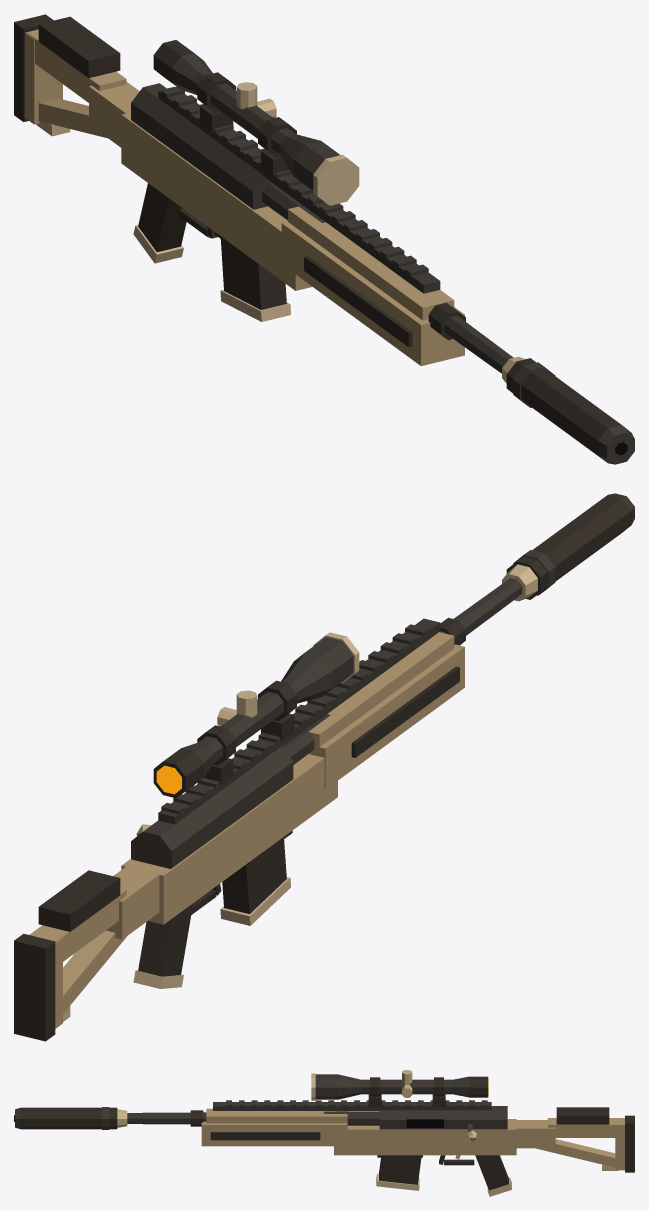
Rendered from lowpoly_sniper_rifle.glb.
3 views of the same model, one above another, from view 1: azimuth 30°, elevation 25°; view 2: azimuth 150°, elevation 25°; view 3: azimuth 270°, elevation 25° (orthographic). The views are drawn at different scales.
Visible parts, largest first — view 1: Chassis_Lower, Handguard_Main, Receiver_Upper, Suppressor_Body, Handguard_TopShroud, Picatinny_Base, Stock_CheekRest, Mag_Body, Barrel_Fluted, Pistol_Grip, Handguard_Rail_L, Stock_Bridge (+16 smaller); view 2: Chassis_Lower, Receiver_Upper, Handguard_Main, Suppressor_Body, Stock_Buttpad, Handguard_TopShroud, Picatinny_Base, Stock_CheekRest, Mag_Body, Pistol_Grip, Stock_Bridge, Barrel_Fluted (+8 smaller); view 3: Chassis_Lower, Handguard_Main, Receiver_Upper, Suppressor_Body, Picatinny_Base, Handguard_TopShroud, Barrel_Fluted, Stock_Bridge, Mag_Body, Stock_Spine, Scope_Tube, Handguard_Rail_R (+14 smaller).
Part boxes in pixels (bbox=[...]): Chassis_Lower: bbox=[121, 112, 312, 290]; Handguard_Main: bbox=[281, 222, 464, 365]; Receiver_Upper: bbox=[131, 83, 271, 209]; Suppressor_Body: bbox=[506, 358, 621, 461]; Handguard_TopShroud: bbox=[288, 206, 454, 320]; Picatinny_Base: bbox=[158, 86, 440, 293]; Stock_CheekRest: bbox=[38, 16, 120, 78]; Mag_Body: bbox=[220, 239, 286, 309]; Barrel_Fluted: bbox=[262, 182, 513, 373]; Pistol_Grip: bbox=[138, 183, 186, 252]; Handguard_Rail_L: bbox=[304, 256, 412, 347]; Stock_Bridge: bbox=[89, 82, 139, 147]; Chassis_Lower: bbox=[121, 754, 337, 924]; Receiver_Upper: bbox=[131, 746, 293, 868]; Handguard_Main: bbox=[309, 644, 464, 789]; Suppressor_Body: bbox=[506, 494, 631, 599]; Stock_Buttpad: bbox=[14, 933, 55, 1041]; Handguard_TopShroud: bbox=[308, 632, 454, 748]; Picatinny_Base: bbox=[158, 618, 440, 824]; Stock_CheekRest: bbox=[38, 870, 120, 931]; Mag_Body: bbox=[222, 839, 286, 913]; Pistol_Grip: bbox=[138, 903, 193, 976]; Stock_Bridge: bbox=[106, 865, 160, 939]; Barrel_Fluted: bbox=[282, 578, 522, 764]; Chassis_Lower: bbox=[334, 1119, 516, 1155]; Handguard_Main: bbox=[201, 1121, 347, 1146]; Receiver_Upper: bbox=[379, 1106, 507, 1129]; Suppressor_Body: bbox=[21, 1107, 117, 1129]; Picatinny_Base: bbox=[213, 1102, 491, 1110]; Handguard_TopShroud: bbox=[206, 1108, 347, 1123]; Barrel_Fluted: bbox=[127, 1111, 379, 1125]; Stock_Bridge: bbox=[514, 1120, 555, 1148]; Mag_Body: bbox=[379, 1157, 421, 1184]; Stock_Spine: bbox=[547, 1118, 622, 1137]; Scope_Tube: bbox=[361, 1079, 452, 1094]; Handguard_Rail_R: bbox=[210, 1132, 320, 1140].
Size of the model in its own units: 0.0951 by 0.2933 by 1.36.
